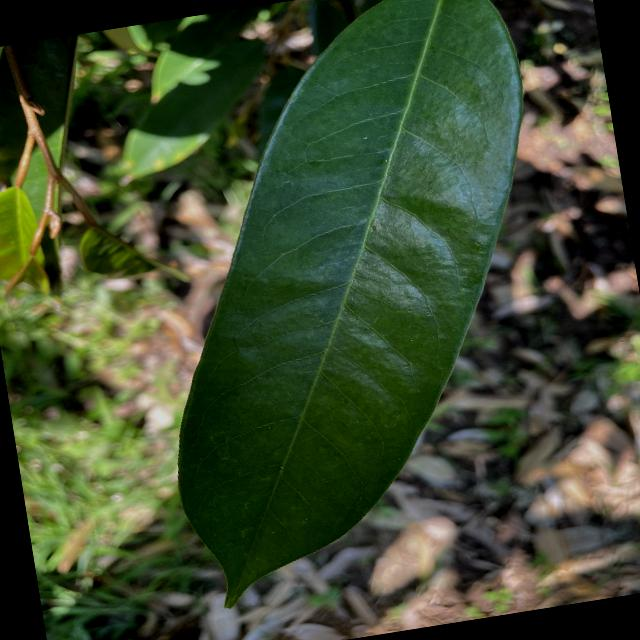No Disease: (97, 0, 607, 621)
